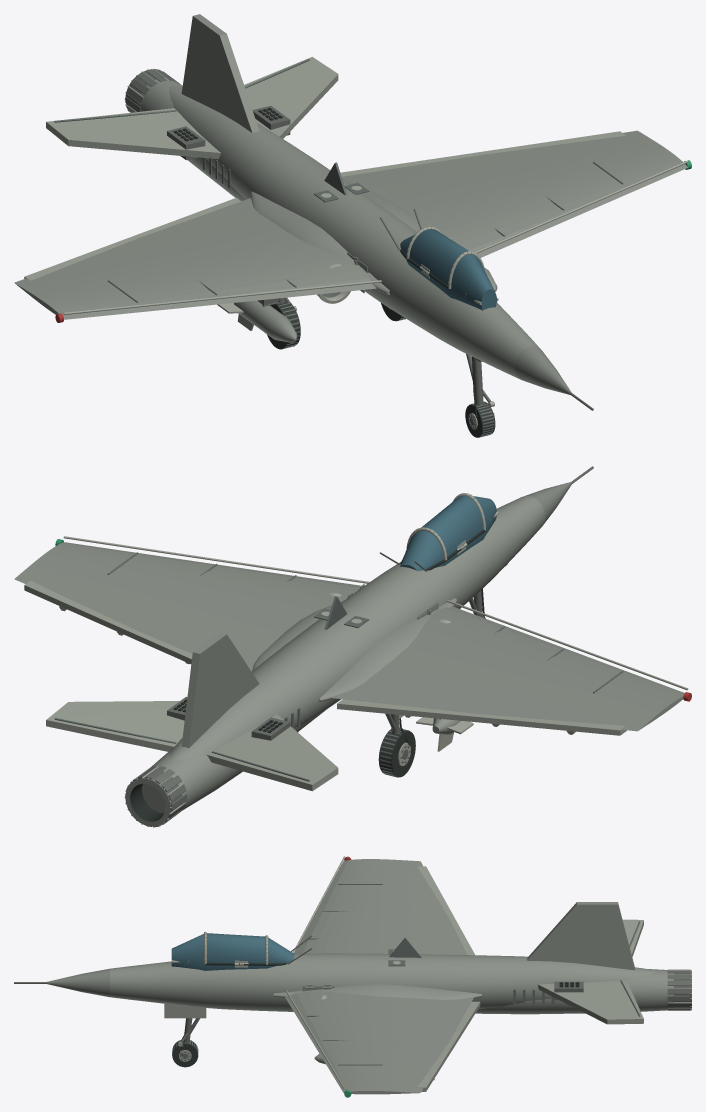
File: spheres-air-light-attack.glb
3 views of the same model, one above another, from view 1: azimuth 30°, elevation 25°; view 2: azimuth 150°, elevation 25°; view 3: azimuth 270°, elevation 25° (orthographic). The views are drawn at different scales.
Parts seen in each view (by area): view 1: Spheres light attack aircraft; view 2: Spheres light attack aircraft; view 3: Spheres light attack aircraft.
Boxes of the visible parts, x1,y1,x2,y2 form: Spheres light attack aircraft: (14, 14, 691, 437); Spheres light attack aircraft: (14, 466, 691, 827); Spheres light attack aircraft: (14, 856, 691, 1097).
Size of the model in its own units: 10.44 by 3.35 by 12.73.
